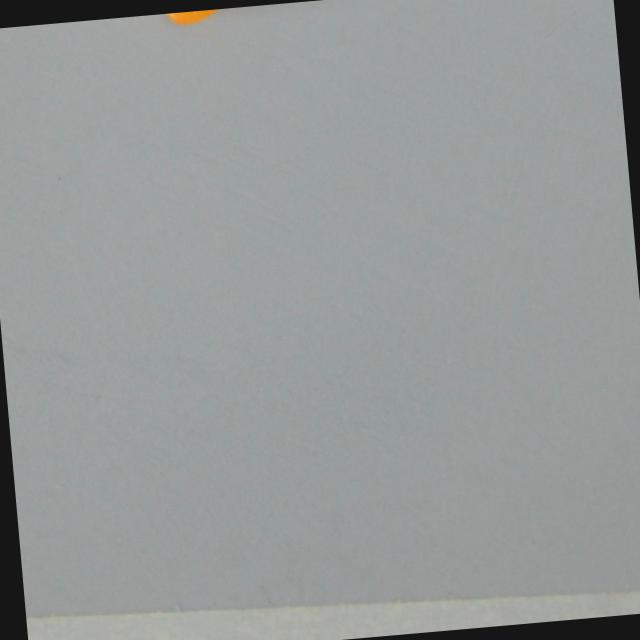pelicula: (148, 6, 241, 32)
